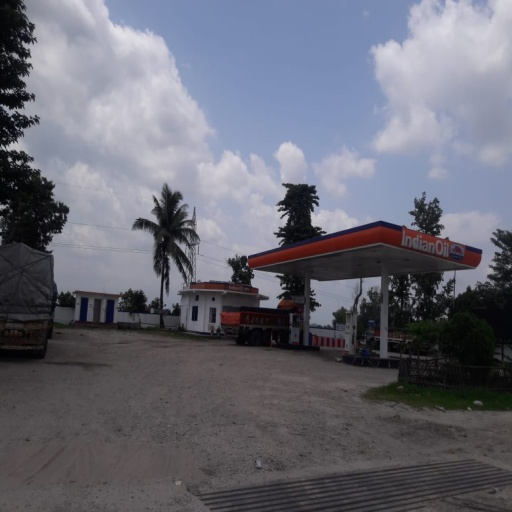roof: (246, 221, 482, 292)
